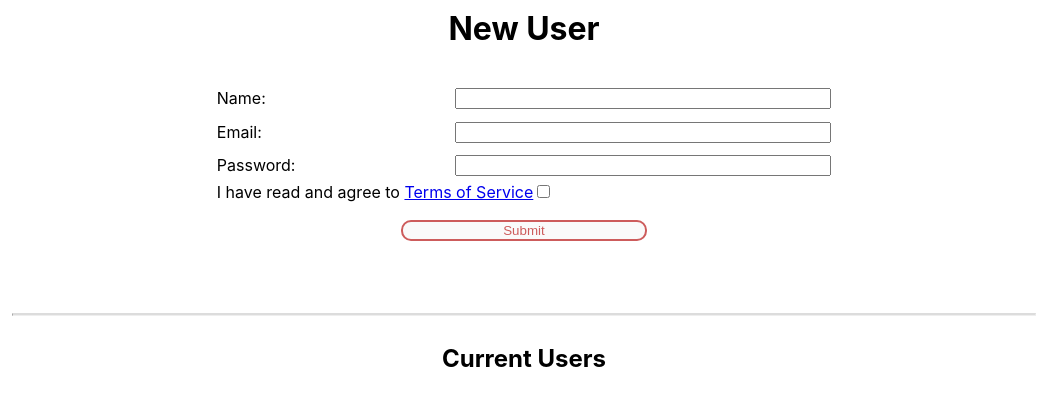
Form validation › validates username
The image size is (1048, 404).
Expected: the text "The username must be at least five characters long" is not shown
Type "B" into the field named "first_name" in the row of "Name:" at (644, 99), box 455,88 -> 832,109
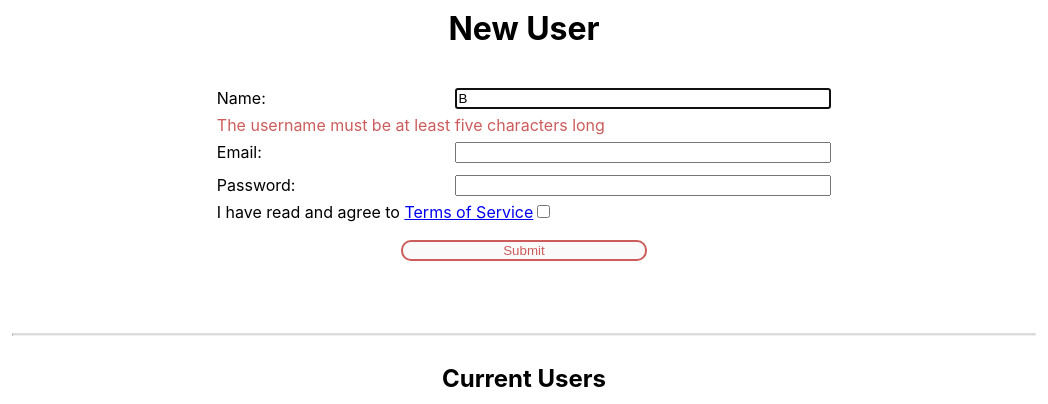
Expected: the text "The username must be at least five characters long" is shown, 217,115 -> 605,135
Type "o" into the field named "first_name" in the row of "Name:" at (644, 99), box 455,88 -> 832,109
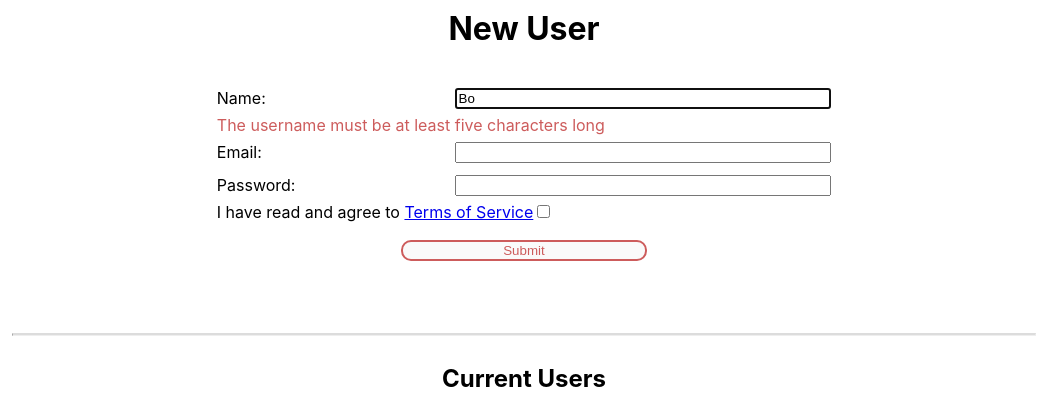
Expected: the text "The username must be at least five characters long" is shown, 217,115 -> 605,135
Type "a" into the field named "first_name" in the row of "Name:" at (644, 99), box 455,88 -> 832,109
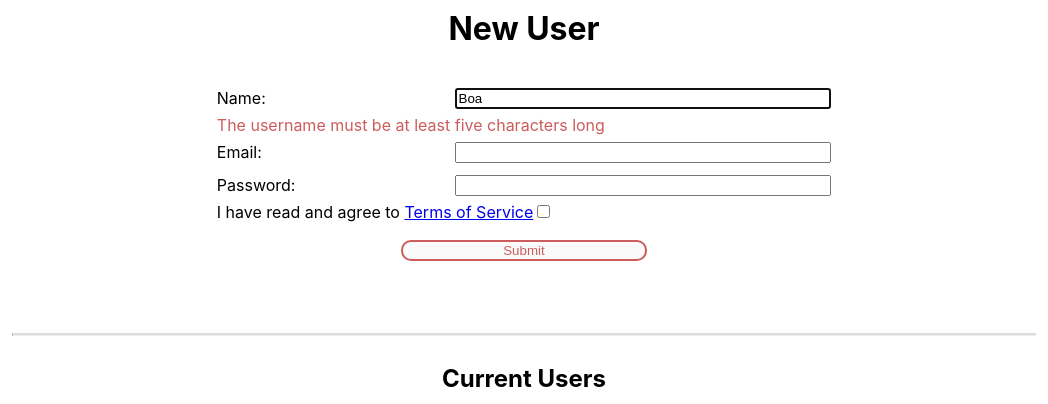
Expected: the text "The username must be at least five characters long" is shown, 217,115 -> 605,135
Type "t" into the field named "first_name" in the row of "Name:" at (644, 99), box 455,88 -> 832,109
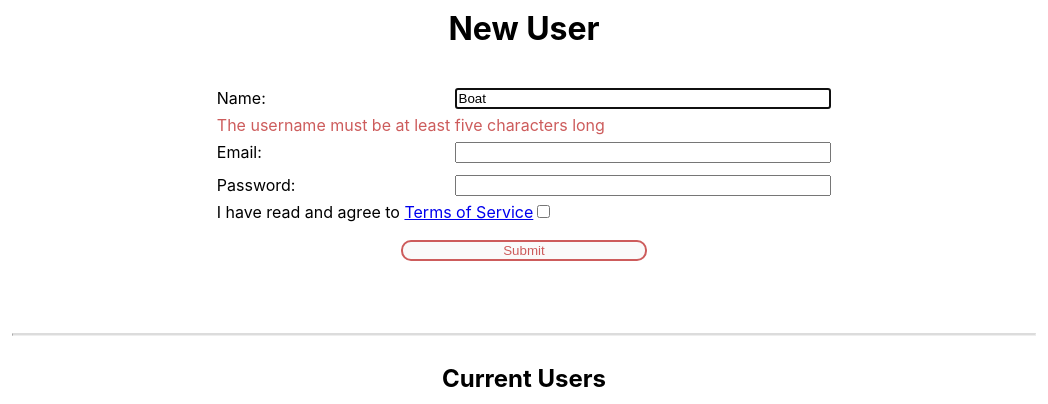
Expected: the text "The username must be at least five characters long" is shown, 217,115 -> 605,135
Type "y" into the field named "first_name" in the row of "Name:" at (644, 99), box 455,88 -> 832,109
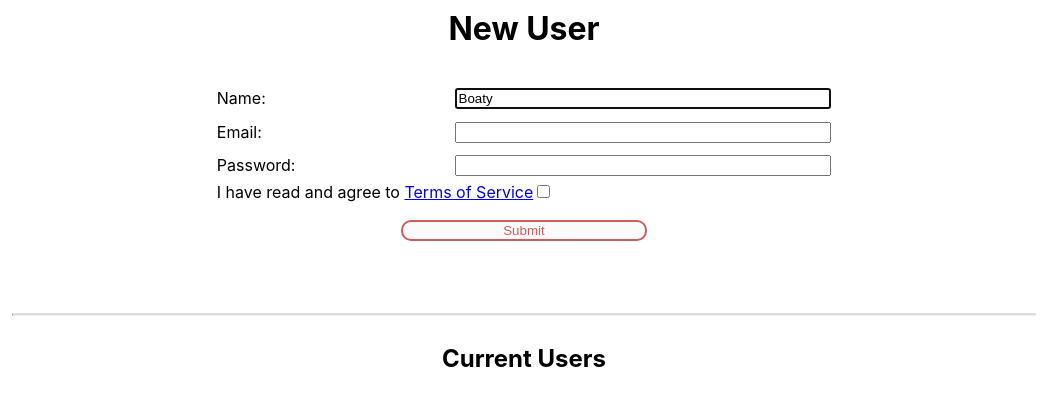
Expected: the text "The username must be at least five characters long" is gone
